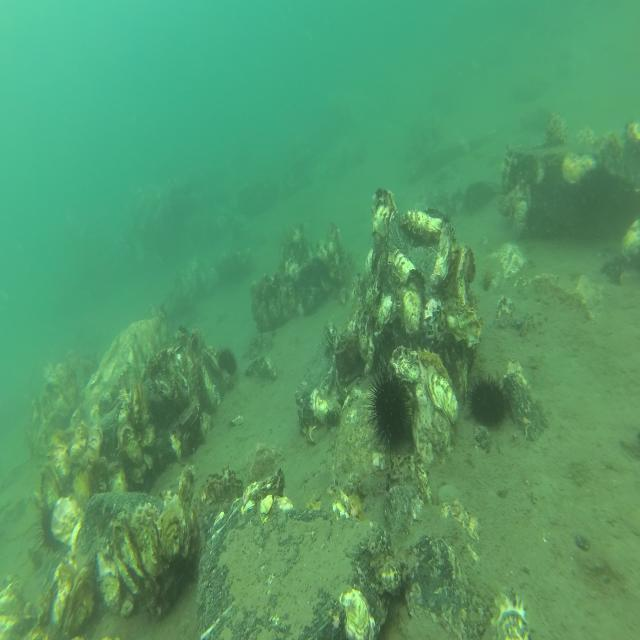echinus: (362, 362, 415, 459), (464, 370, 510, 429), (579, 160, 619, 218), (32, 500, 61, 557), (332, 349, 357, 378), (218, 345, 238, 376)
